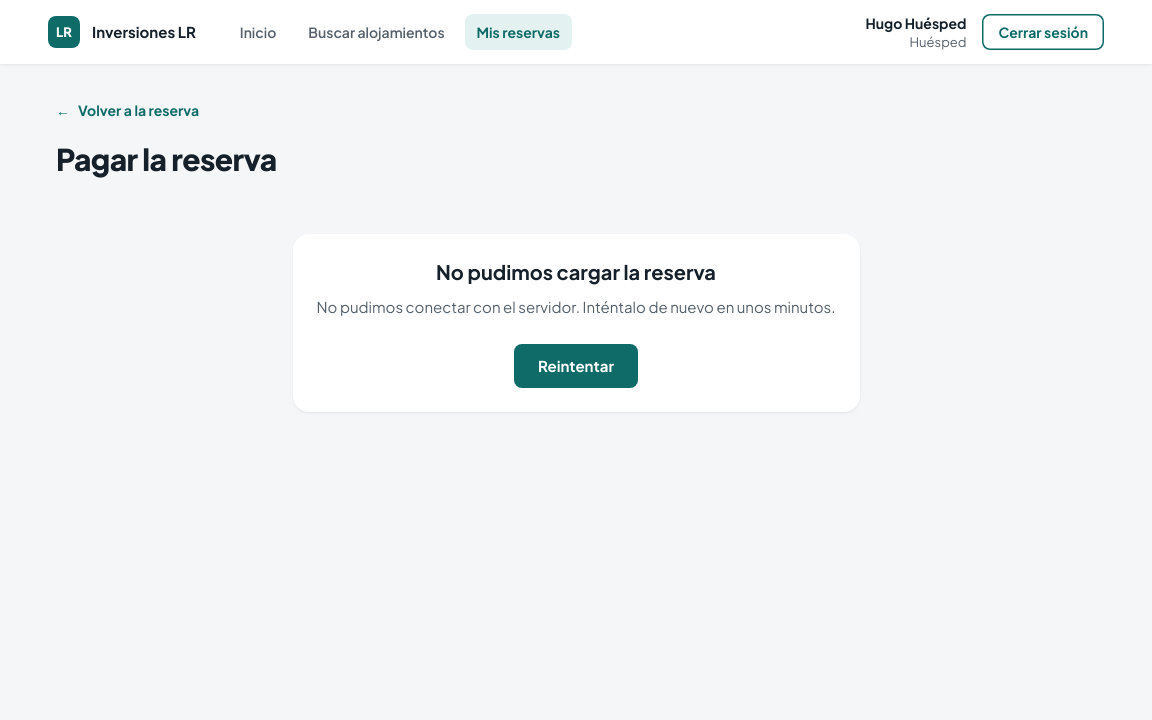
Scenario: pago de la reserva › si la consulta de la reserva se rechaza muestra el error de conexión y permite reintentar
This screenshot has width=1152, height=720.
Check: the message shows "No pudimos cargar la reserva", box [436,259,716,284]
Check: the message shows "No pudimos conectar con el servidor", box [316,297,836,316]
Click the button "Reintentar".
click(576, 366)  # box [514,344,638,388]
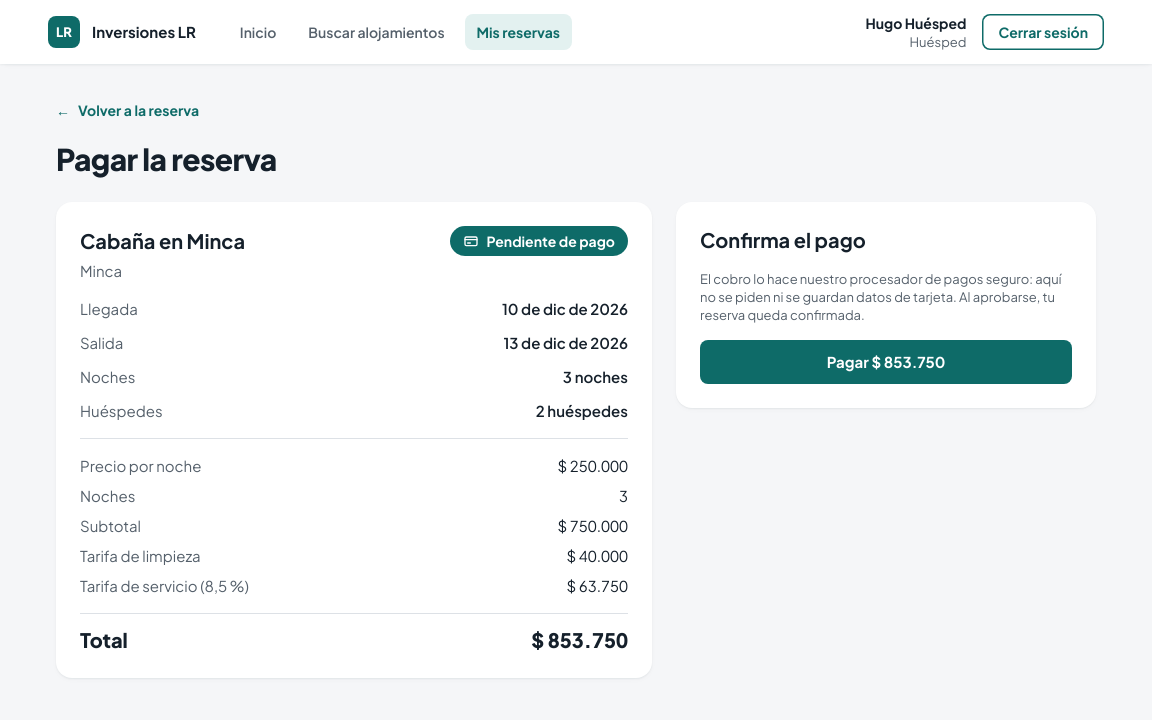
Check: the heading "Cabaña en Minca" is shown, box [80,227,245,255]
